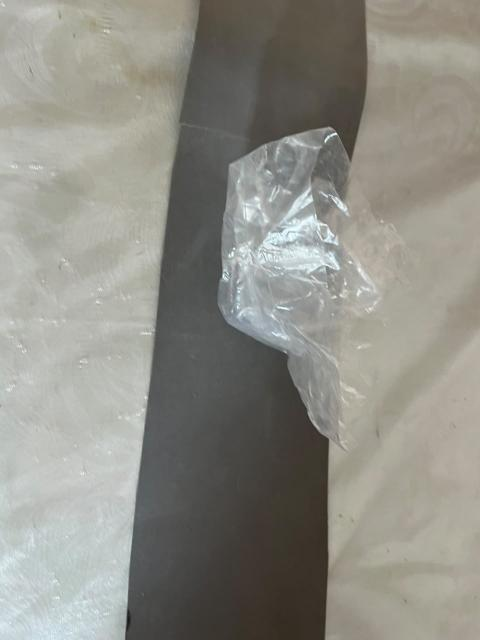LDPE: (180, 86, 422, 488)
